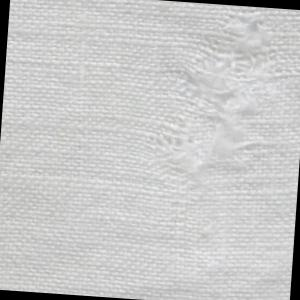Damage: (137, 1, 296, 206)
